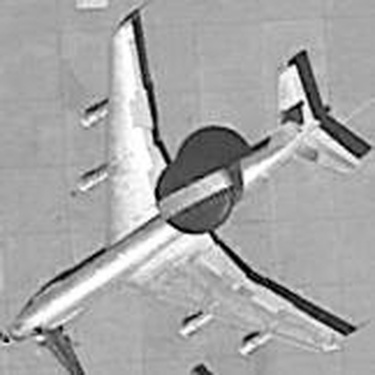airplane: (4, 13, 365, 363)
